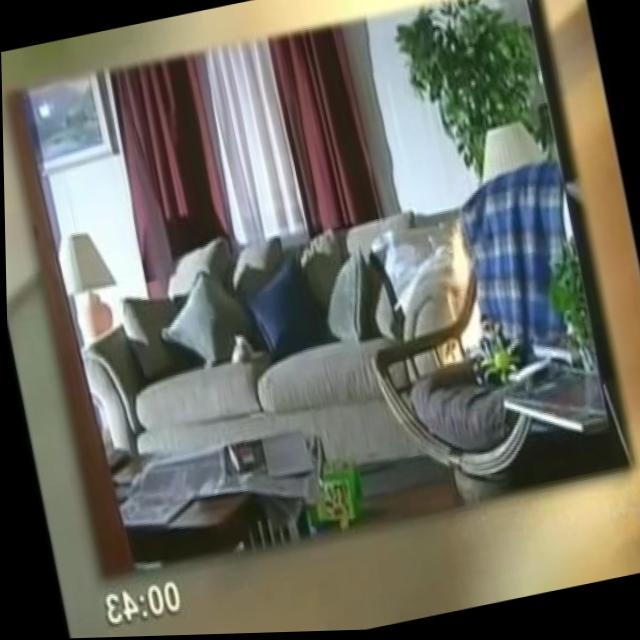fire: (406, 207, 489, 372)
